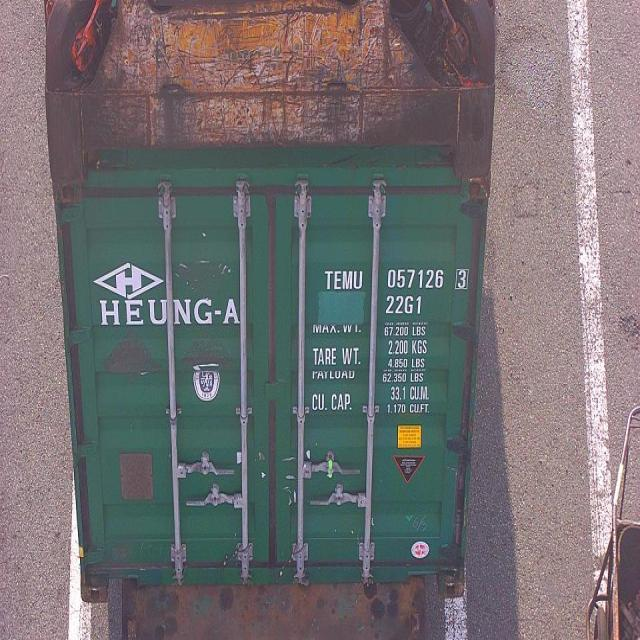ISO: (386, 292, 425, 314)
container_number: (322, 261, 468, 292)
